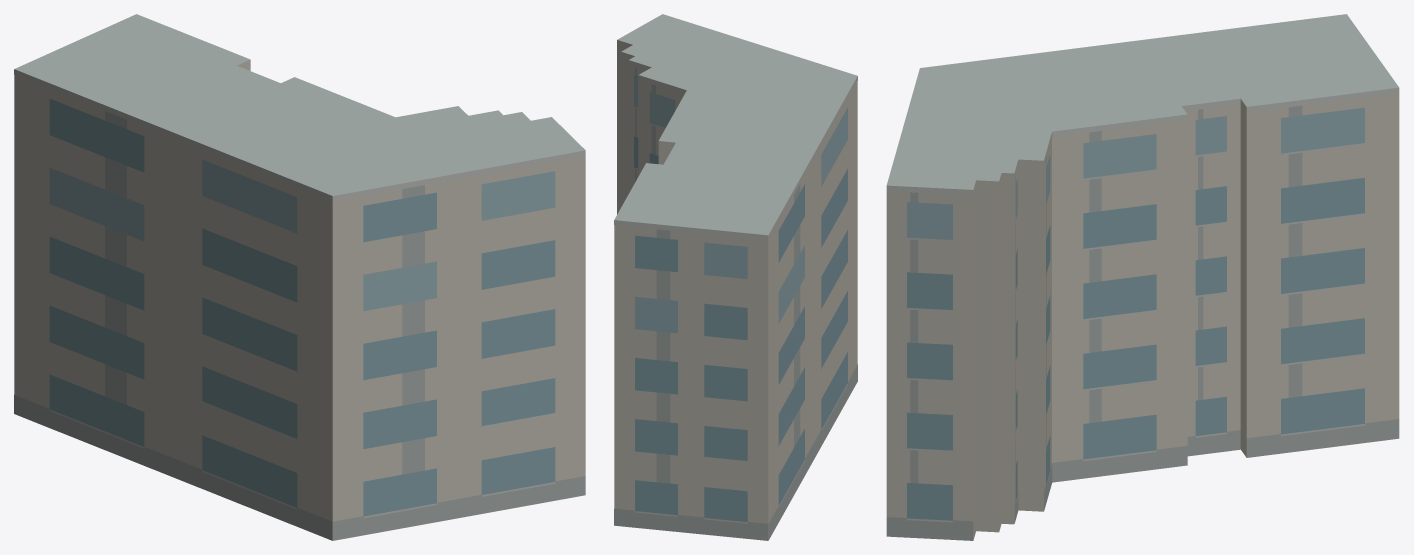
The model's file is survey-upis-32619837.glb.
3 renders of one model, left to right at view 1: azimuth 30°, elevation 25°; view 2: azimuth 150°, elevation 25°; view 3: azimuth 270°, elevation 25°, orthographic. The views are drawn at different scales.
Parts seen in each view (by area): view 1: survey-upis-32619837.tmp; view 2: survey-upis-32619837.tmp; view 3: survey-upis-32619837.tmp.
Boxes of the visible parts, x1=… form: survey-upis-32619837.tmp: x1=14, y1=14, x2=585, y2=540; survey-upis-32619837.tmp: x1=614, y1=14, x2=857, y2=540; survey-upis-32619837.tmp: x1=886, y1=14, x2=1399, y2=540.
Bounding box in the file's own units: 16.24 × 15.1 × 20.01.
